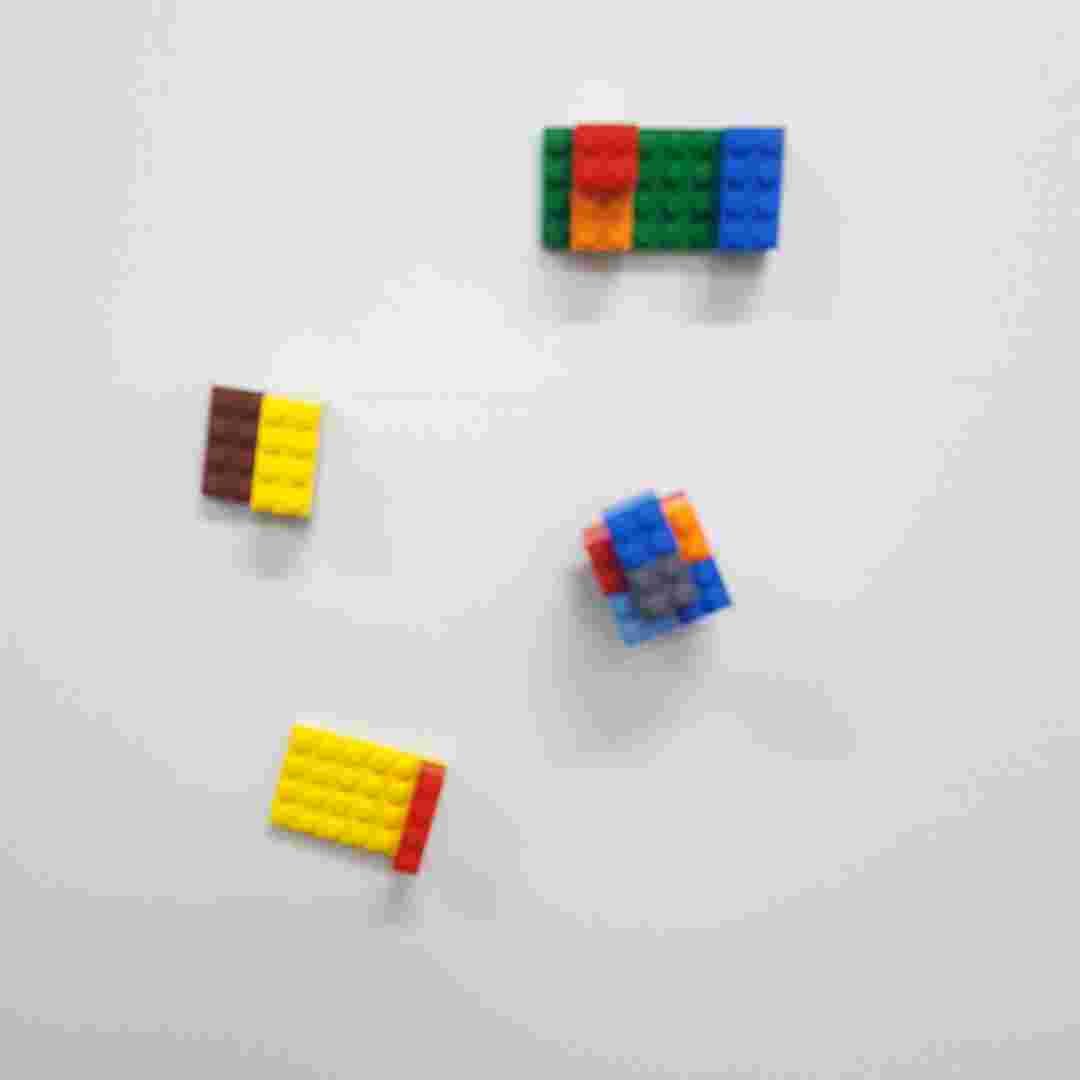LEGO: (533, 112, 792, 260), (257, 715, 458, 884), (577, 478, 745, 651), (190, 377, 334, 525)
